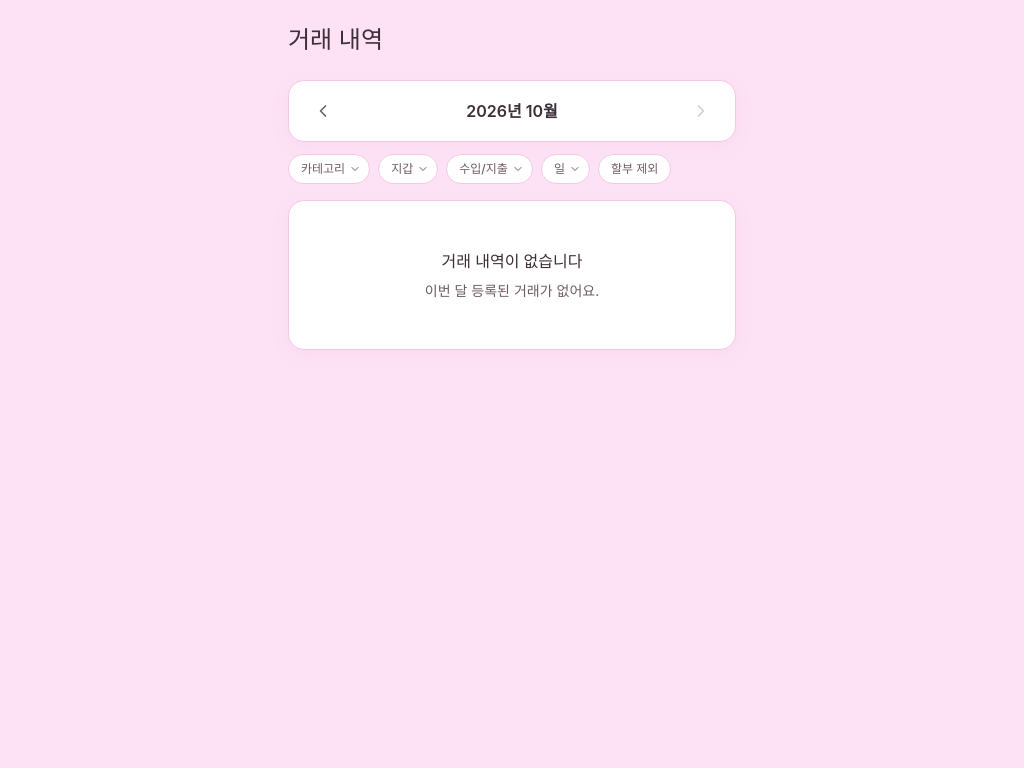
Test: TransactionsPage — 필터 바 › applies the selected category filter to the transaction query, resets to page 1, and clears via the chip's X
Click the button "카테고리".
click(329, 169)  # box [289,155,369,183]
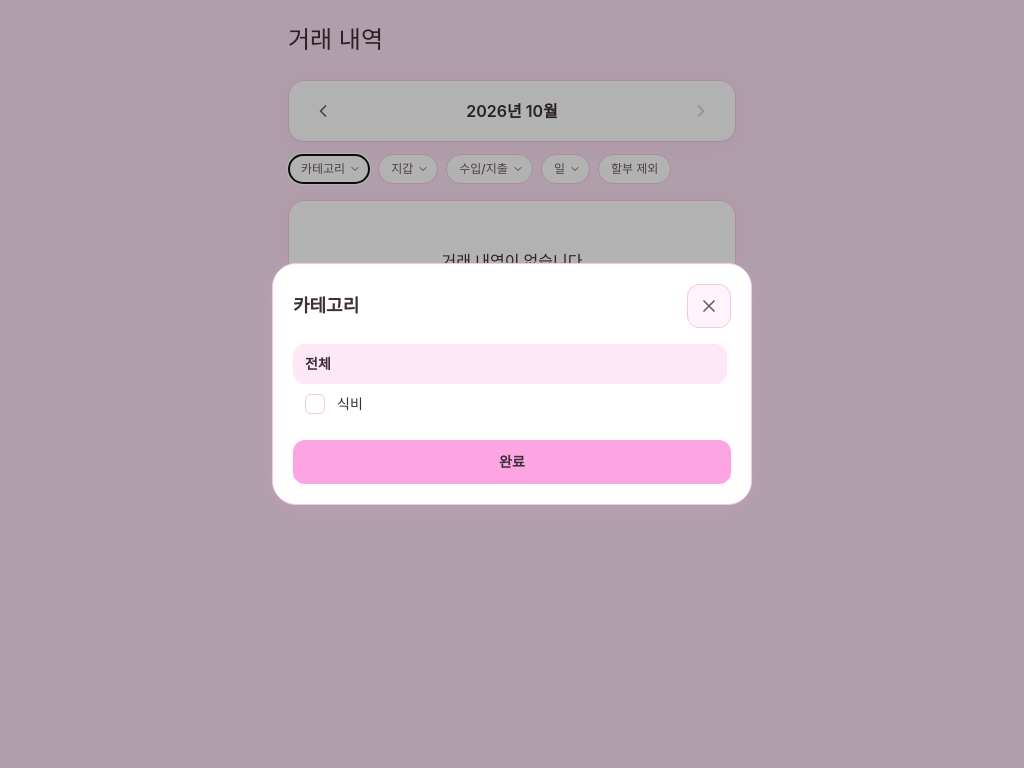
Click the checkbox labelled "식비".
click(315, 404)  # box [293,384,727,424]
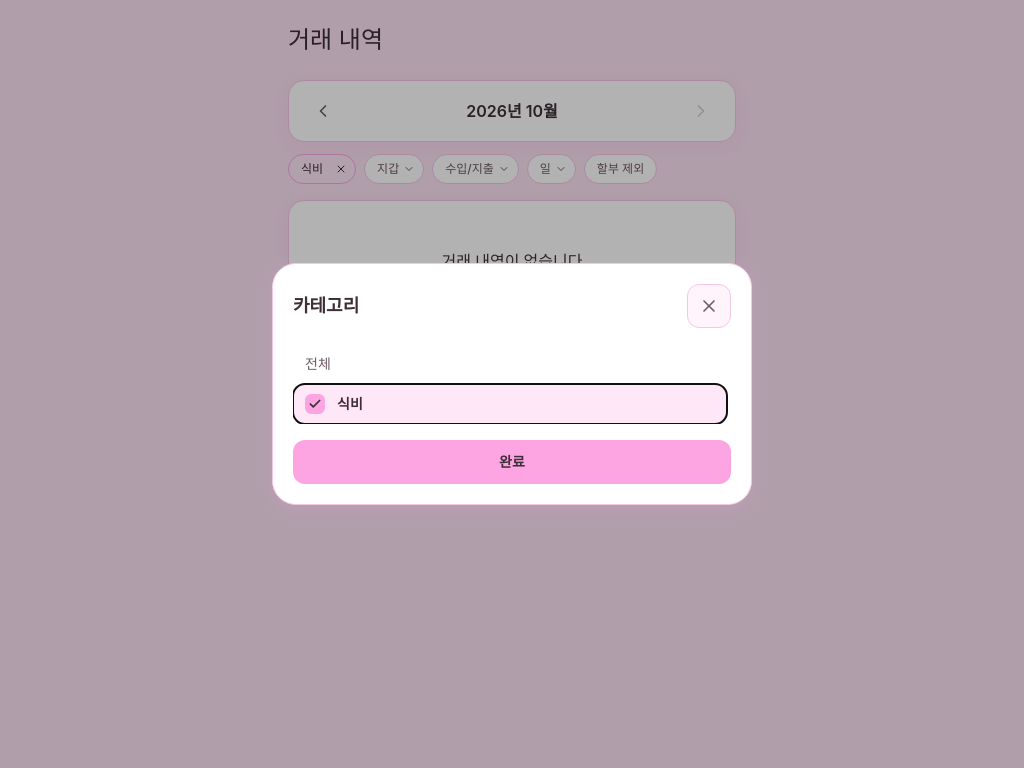
Click the button "완료".
click(512, 462)  # box [293,440,731,484]
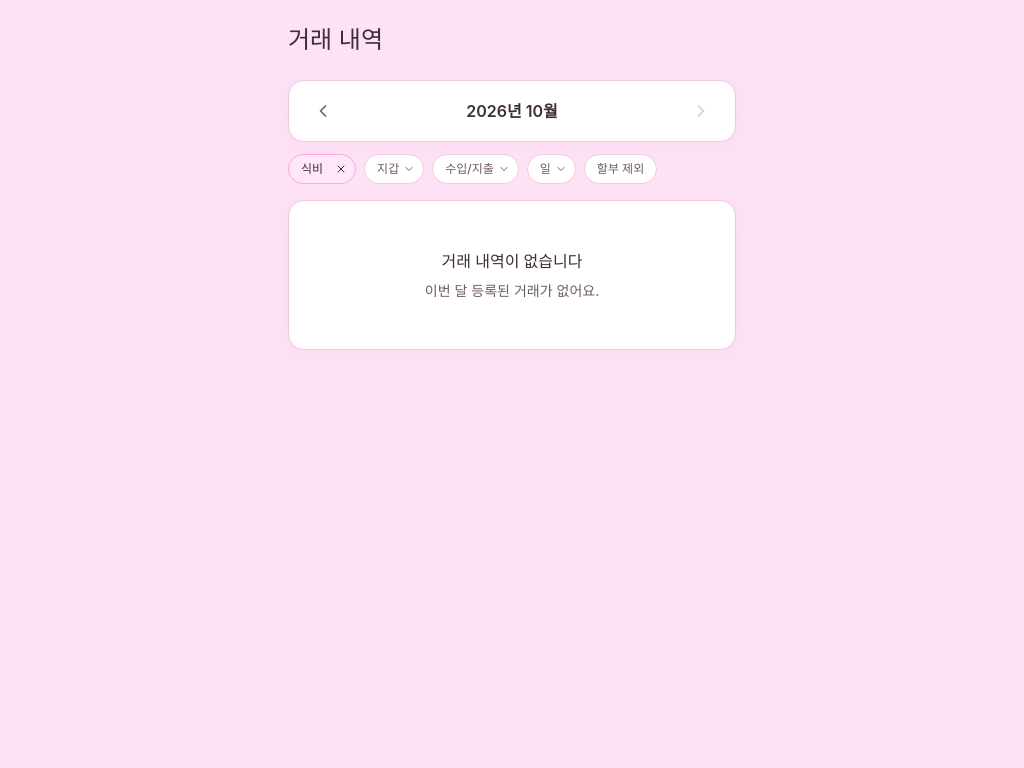
Click the button named "카테고리 필터 해제".
click(341, 169)  # box [331,159,351,179]
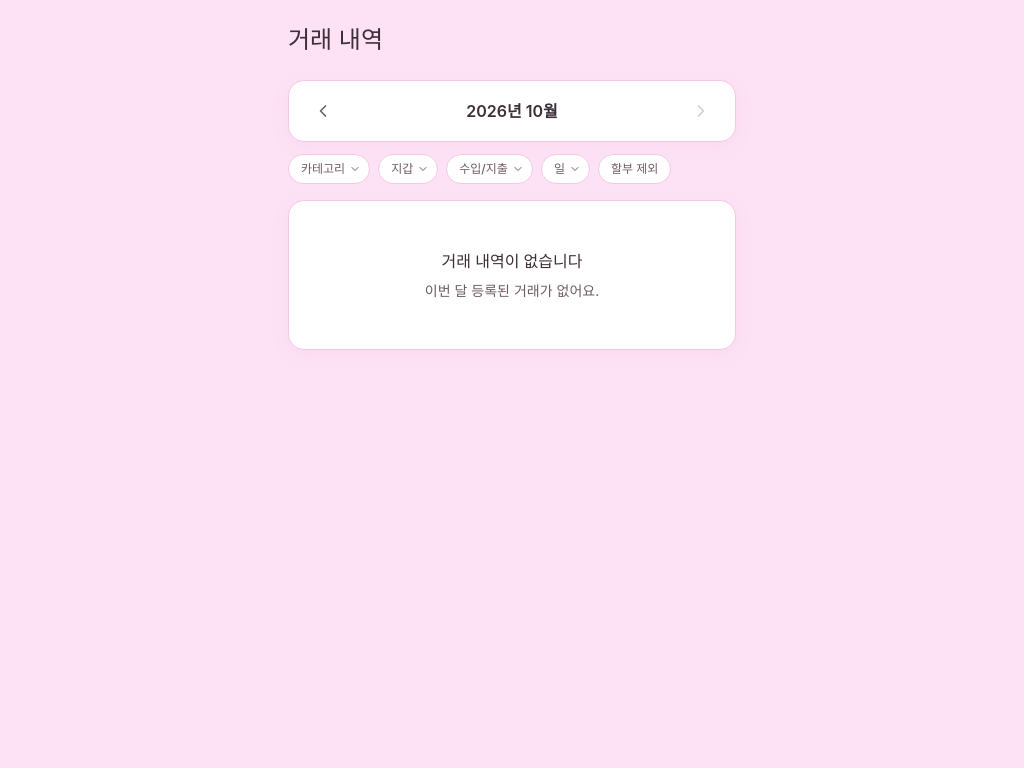
Expected: the button "카테고리" is shown, [289,155,369,183]
